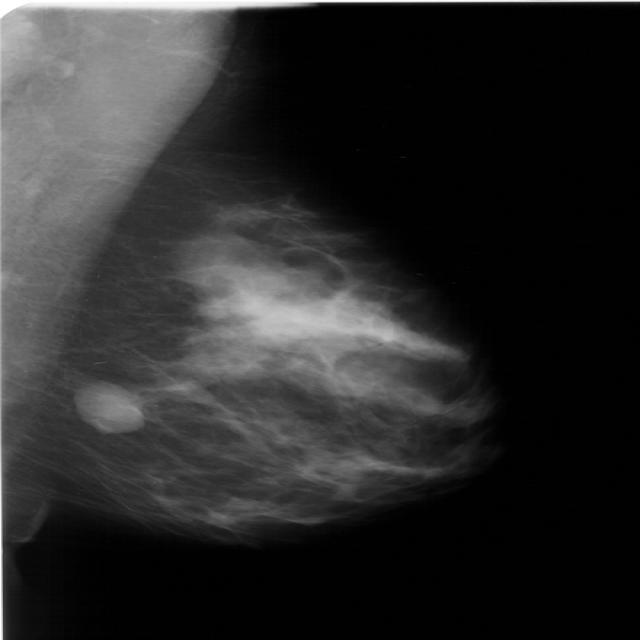tumour: (70, 380, 144, 434)
